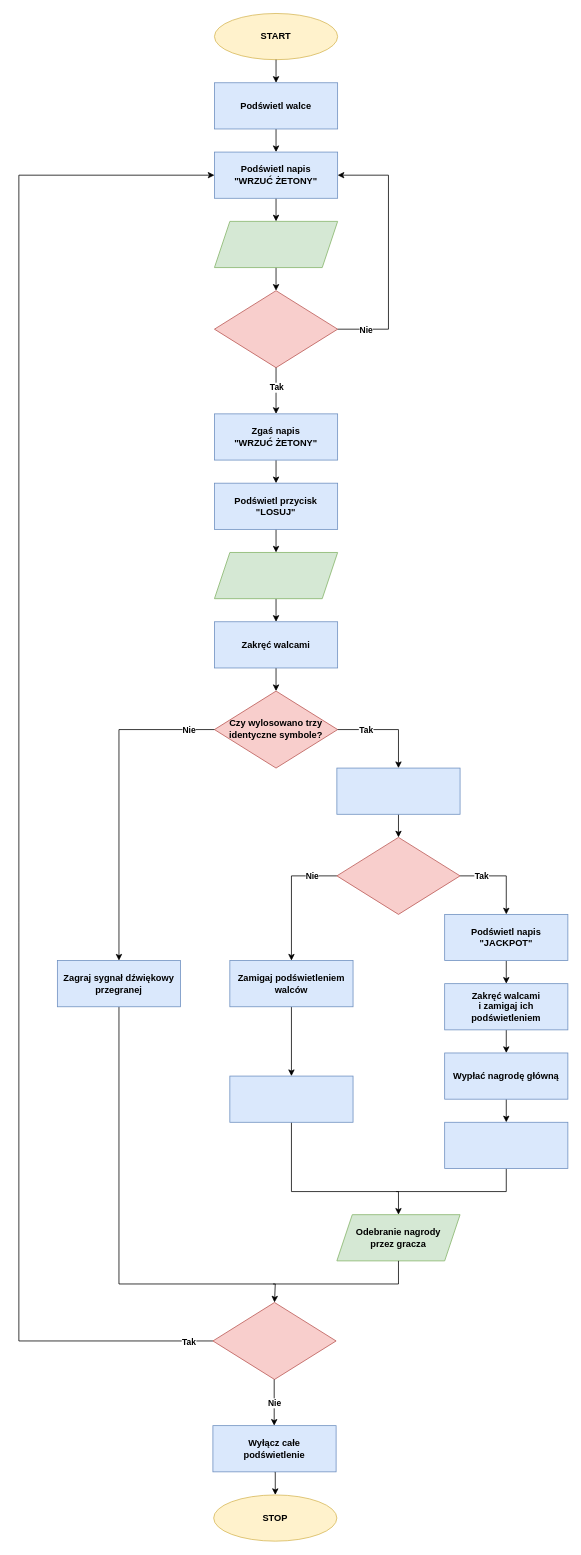
Some shapes in this 581 by 1555 pixel diagram are drawn without their labels. Here are the shapes that lost their labels. From the top down, the centre of each, then its label:
the point at 276,244: Wrzucenie żetonów przez gracza
the point at 276,329: Czy gracz wrzucił wystarczającą liczbę żetonów?
the point at 276,575: Wciśnięcie przez gracza przycisku "LOSUJ"
the point at 398,790: Zagraj sygnał dźwiękowy wygranej
the point at 398,875: Czy wylosowano symbole "7"?
the point at 291,1098: Wypłać nagrodę podstawową
the point at 506,1145: Wyłącz podświetlenie napisu "JACKPOT"
the point at 274,1340: Czy gracz chce grać dalej?
